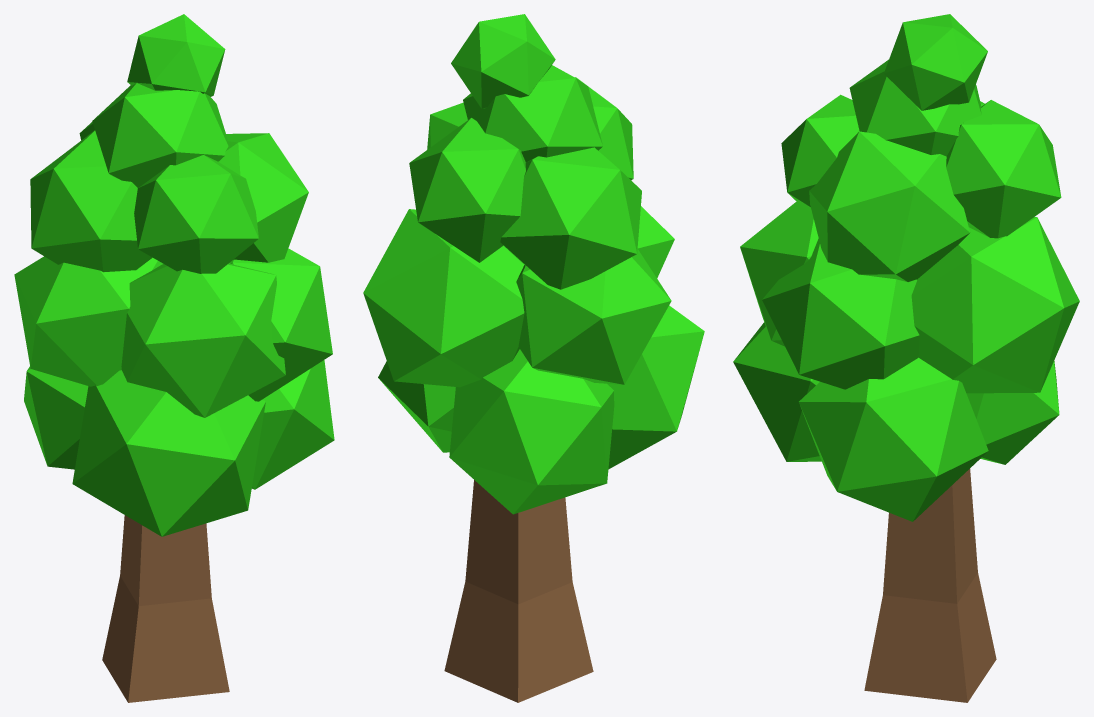
Rendered from tree_04.glb.
The picture shows the model from 3 angles, left to right: view 1: azimuth 30°, elevation 25°; view 2: azimuth 150°, elevation 25°; view 3: azimuth 270°, elevation 25°; orthographic projection. The views are drawn at different scales.
Parts seen in each view (by area): view 1: Tree_04; view 2: Tree_04; view 3: Tree_04.
Boxes of the visible parts, x1,y1,x2,y2 form: Tree_04: [14, 14, 334, 702]; Tree_04: [363, 14, 704, 702]; Tree_04: [733, 14, 1079, 702].
Size of the model in its own units: 1.72 by 3.83 by 1.82.
1 material, 1 textured.
